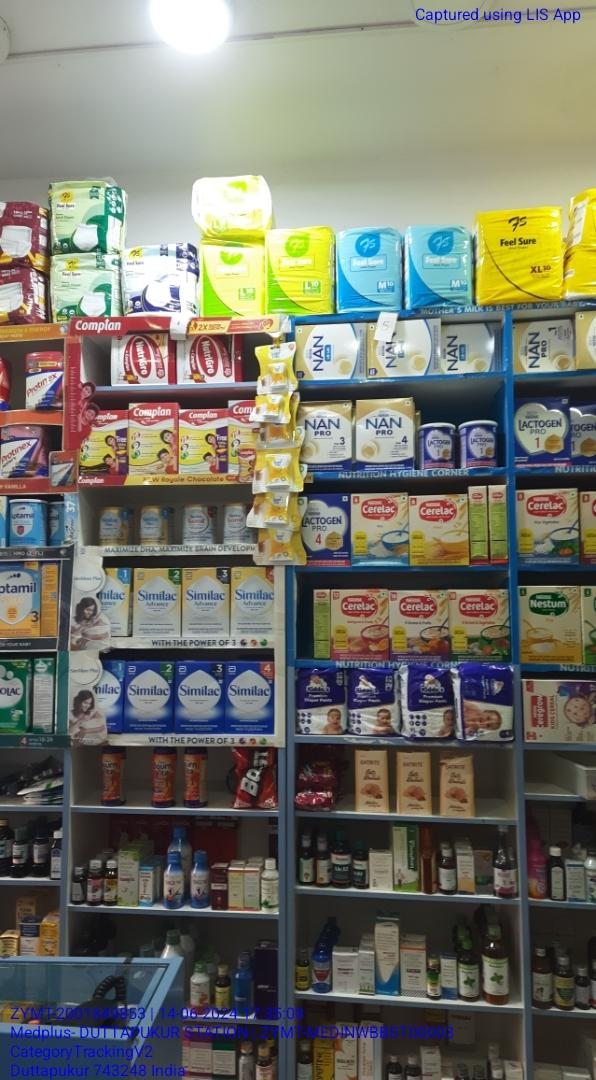BOURN_VITA_200_G_JAR: (102, 747, 125, 807), (151, 747, 174, 807)
COMPLAN_CHOCOLATE_500_GMS_PACK: (81, 409, 126, 472)
COMPLAN_CREAMY_CLASSIC_500_G_PACK: (180, 408, 229, 476)
COMPLAN_KESAR_BADAM_500_GMS_PACK: (129, 403, 178, 474)
